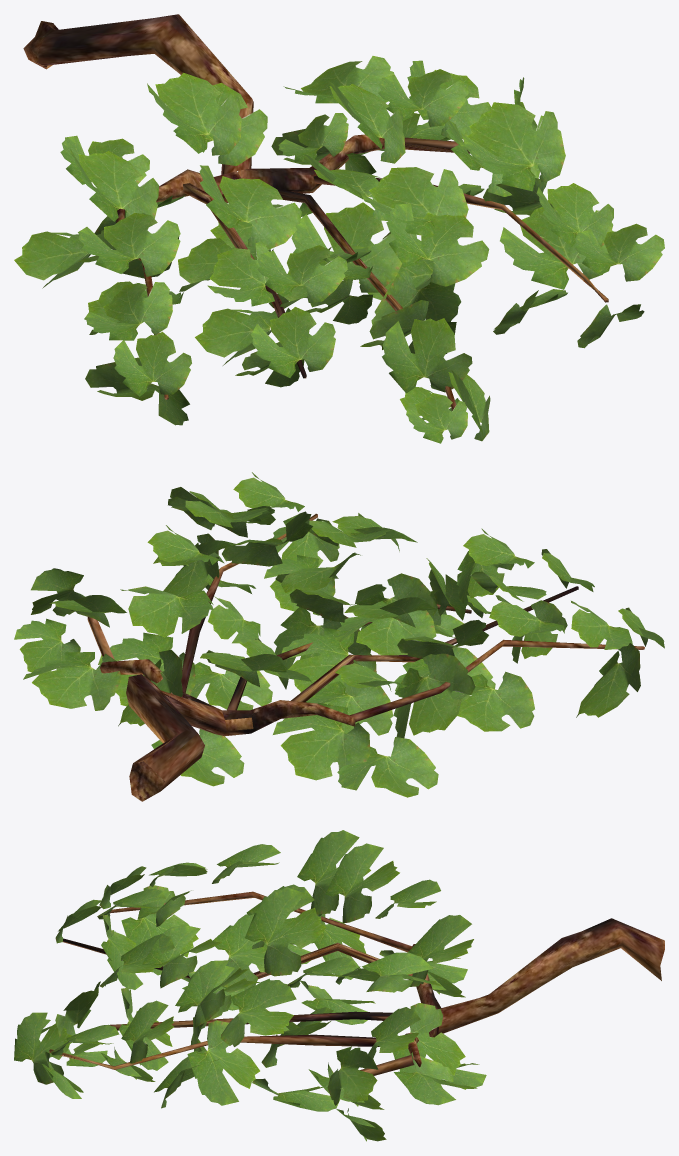
File: vine_03.obj
The picture shows the model from 3 angles, top to bottom: view 1: azimuth 30°, elevation 25°; view 2: azimuth 150°, elevation 25°; view 3: azimuth 270°, elevation 25°; orthographic projection. The views are drawn at different scales.
Parts seen in each view (by area): view 1: trunk.009, leaf.388, leaf.370, leaf.385, branches.006, leaf.391, leaf.364, leaf.390, leaf.399, leaf.395, leaf.394, leaf.369 (+36 smaller); view 2: trunk.009, branches.006, leaf.412, leaf.410, leaf.374, leaf.375, leaf.384, leaf.387, leaf.413, leaf.383, leaf.408, leaf.379 (+39 smaller); view 3: trunk.009, branches.006, leaf.367, leaf.405, leaf.370, leaf.360, leaf.369, leaf.365, leaf.407, leaf.390, leaf.392, leaf.372 (+34 smaller).
Boxes of the visible parts, x1,y1,x2,y2 form: trunk.009: (23, 14, 384, 202); leaf.388: (461, 102, 565, 191); leaf.370: (147, 72, 241, 155); leaf.385: (386, 203, 489, 286); branches.006: (116, 137, 608, 410); leaf.391: (199, 165, 301, 249); leaf.364: (382, 318, 472, 393); leaf.390: (360, 167, 468, 237); leaf.399: (78, 213, 180, 276); leaf.395: (291, 202, 402, 292); leaf.394: (251, 307, 335, 377); leaf.369: (70, 149, 158, 221); trunk.009: (100, 659, 355, 801); branches.006: (87, 513, 644, 724); leaf.412: (273, 702, 370, 780); leaf.410: (393, 653, 475, 738); leaf.374: (23, 652, 121, 710); leaf.375: (337, 737, 438, 797); leaf.384: (451, 671, 534, 731); leaf.387: (120, 586, 213, 637); leaf.413: (281, 627, 376, 703); leaf.383: (333, 601, 436, 655); leaf.408: (576, 643, 640, 717); leaf.379: (190, 655, 272, 710); trunk.009: (405, 918, 664, 1067); branches.006: (49, 891, 414, 1075); leaf.367: (245, 887, 326, 976); leaf.405: (187, 1020, 259, 1105); leaf.370: (325, 843, 399, 923); leaf.360: (220, 978, 296, 1046); leaf.369: (297, 830, 370, 914); leaf.365: (14, 1012, 72, 1084); leaf.407: (393, 1003, 465, 1087); leaf.390: (142, 924, 221, 988); leaf.392: (408, 915, 473, 986); leaf.372: (327, 1046, 378, 1105).
Bounding box in the file's own units: 1.39 × 0.5502 × 1.65.
Materials: 2 (2 with a texture image).
